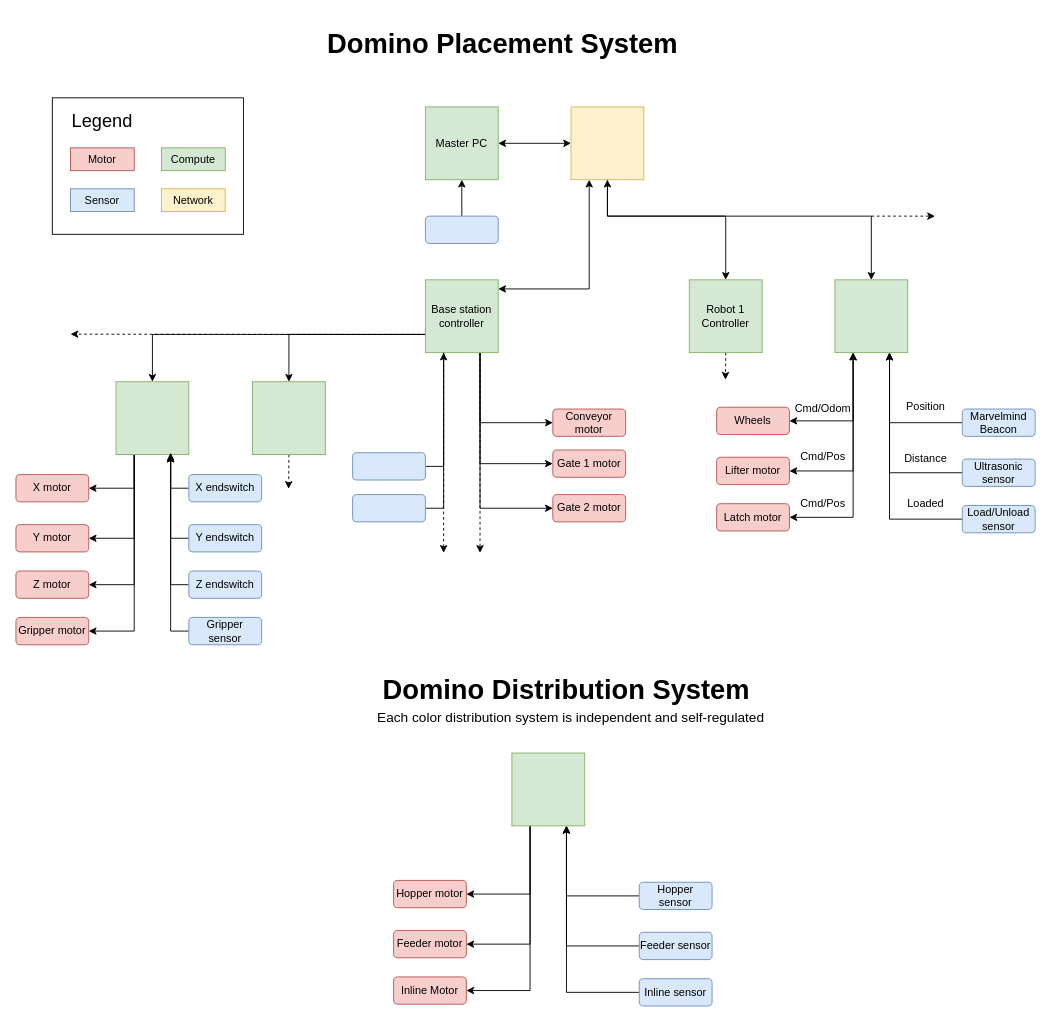
The diagram is 1051 pixels wide and 1022 high, and some of its shapes have lost their labels. The shapes that lost their labels are listed below. From the top down, each one's centre as x and y in pixels, then its label:
(607,143): Network switch/router
(461,229): Marvelmind router
(871,316): Robot 2 Controller
(152,418): Arm 2 Controller
(288,418): Arm 1 Controller
(388,466): Camera 1
(388,508): Camera 2
(548,789): Distribution Controller
